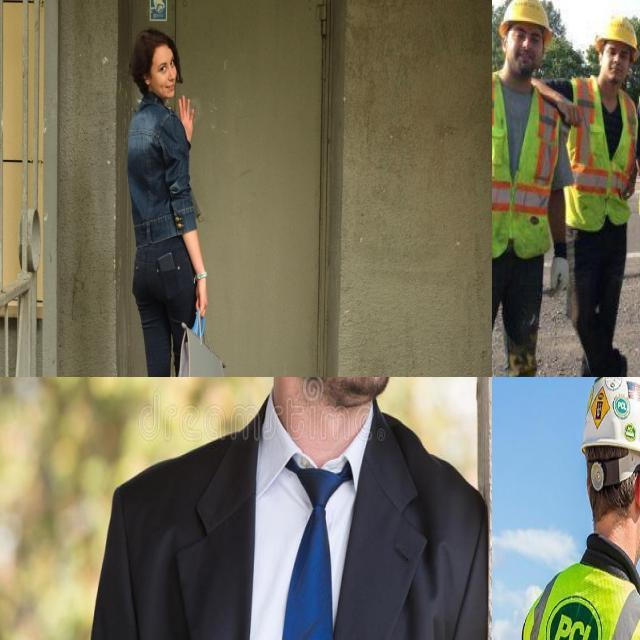face_nomask: (500, 17, 548, 75), (600, 38, 630, 89)
hand_glove: (543, 253, 576, 305)
head_helmet: (575, 377, 640, 477), (498, 0, 553, 29), (599, 14, 638, 48)
person: (546, 377, 640, 640), (573, 12, 640, 377), (492, 0, 554, 377)
shoes: (604, 351, 635, 377)
vest: (492, 85, 555, 262), (567, 85, 640, 226), (528, 570, 640, 640)
